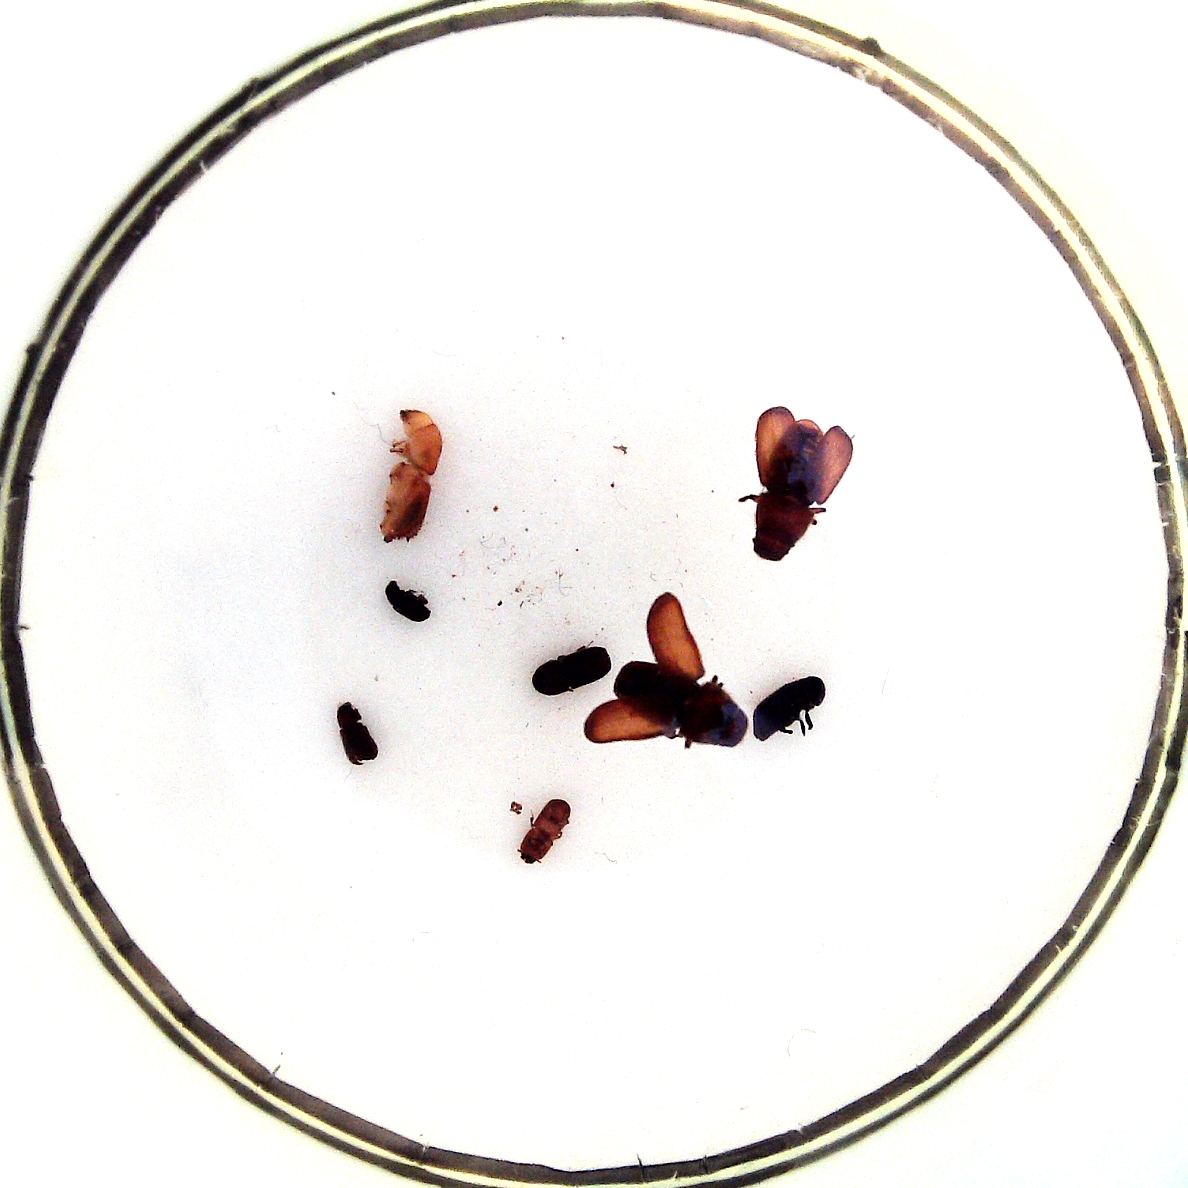Boerner: (380, 410, 443, 543)
Leconte: (612, 660, 748, 748), (752, 419, 825, 562)
acuminatus: (337, 702, 378, 766), (385, 580, 431, 622)
armandi: (753, 675, 826, 741)
coleoptera: (520, 799, 571, 864)
linnaeus: (532, 647, 610, 695)
